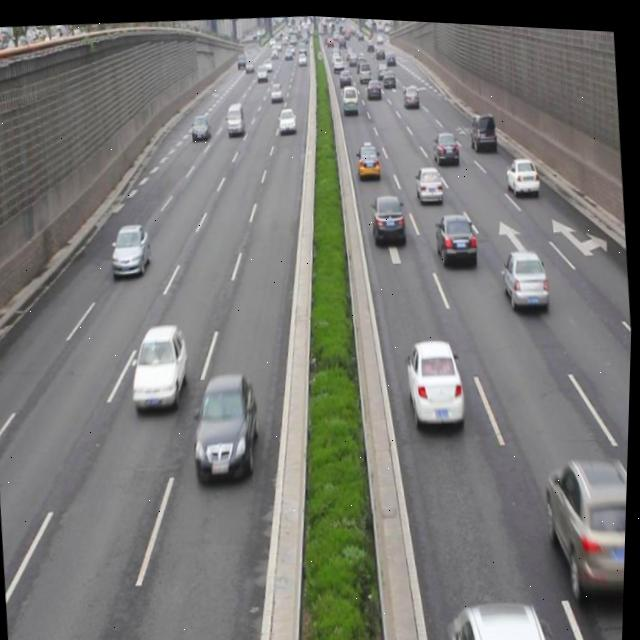car: (541, 446, 630, 595), (189, 367, 264, 483), (128, 319, 193, 410), (404, 330, 468, 421), (451, 589, 559, 640), (500, 239, 550, 306), (432, 203, 480, 268), (108, 217, 155, 280), (370, 185, 407, 242), (503, 147, 540, 189), (468, 104, 499, 149), (413, 159, 444, 202), (430, 123, 460, 161), (355, 137, 383, 176)
